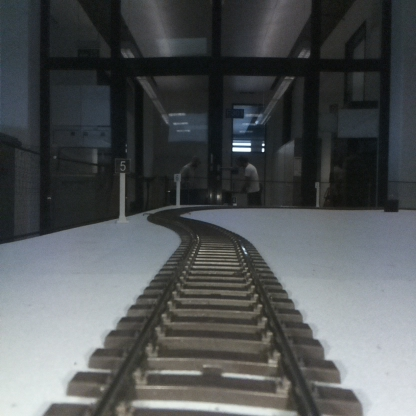black-info-5: (115, 159, 130, 222)
